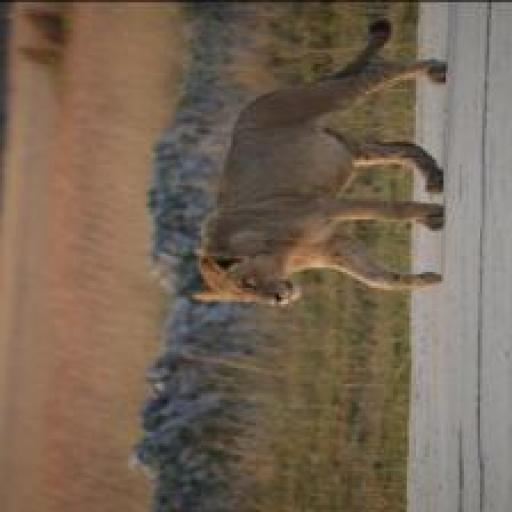lion: (190, 16, 458, 309)
